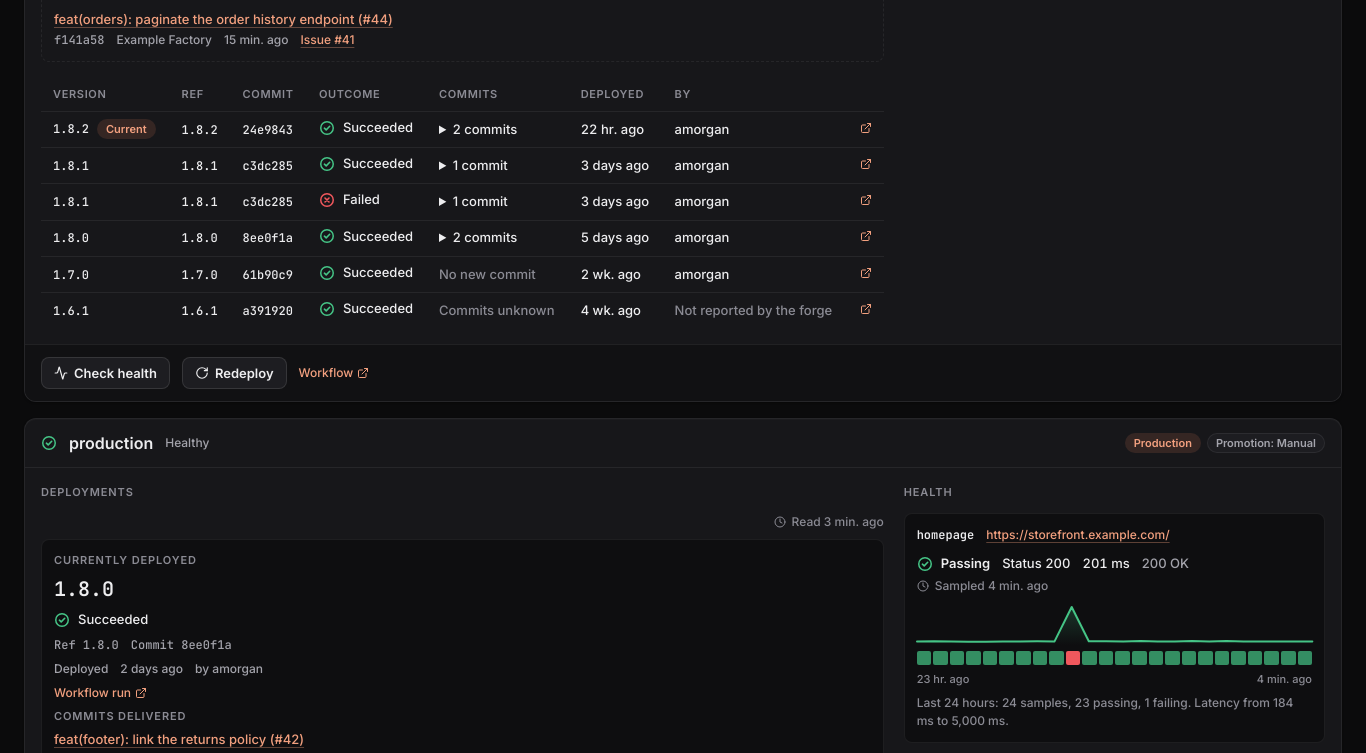
Test: deployment.redeploy: the confirmation › says the version is not the deployed one, and keeps the confirmation disabled, while it differs
The width and height of the screenshot is (1366, 753).
Later steps or results of the test are not shown.
(page scrolled)
Click the button with aria-label "Redeploy staging": (234, 373) [182, 357, 286, 389]
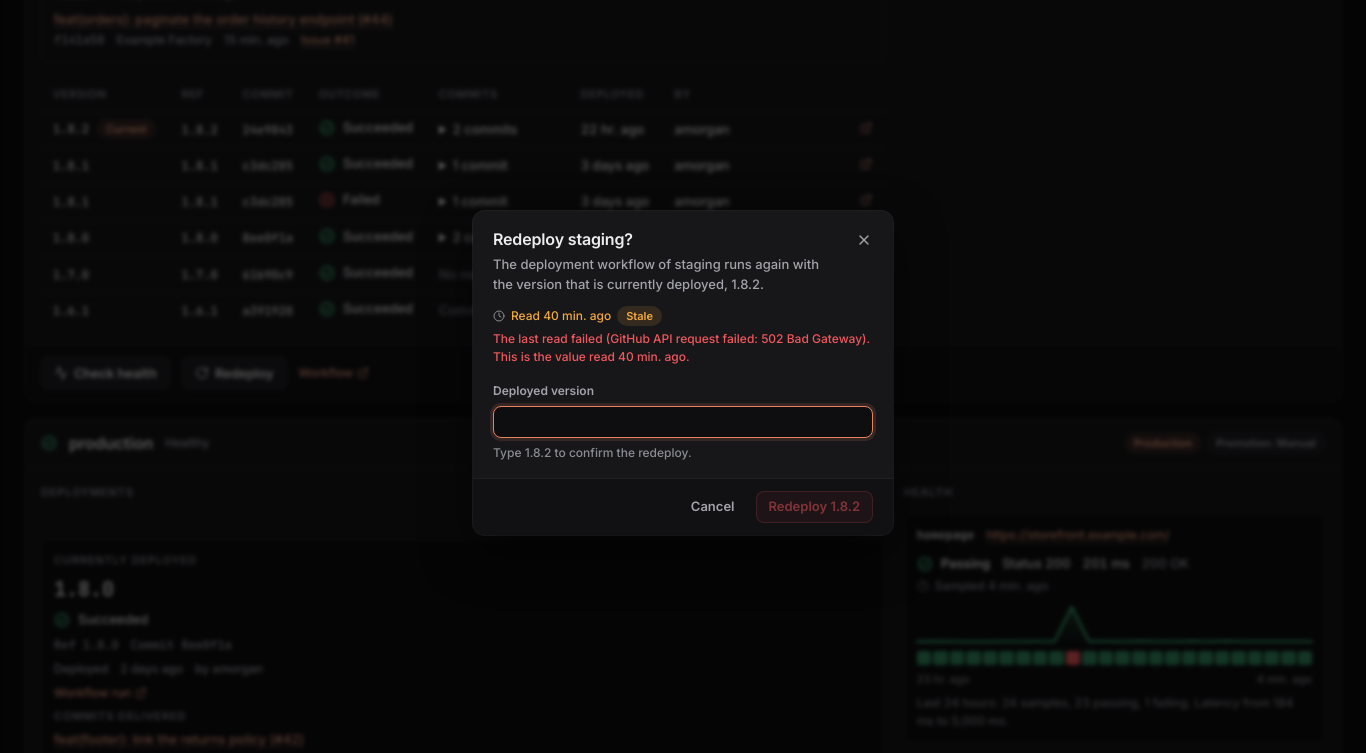
In the field labelled "Deployed version": (683, 422) [493, 406, 873, 438], type "1.8"
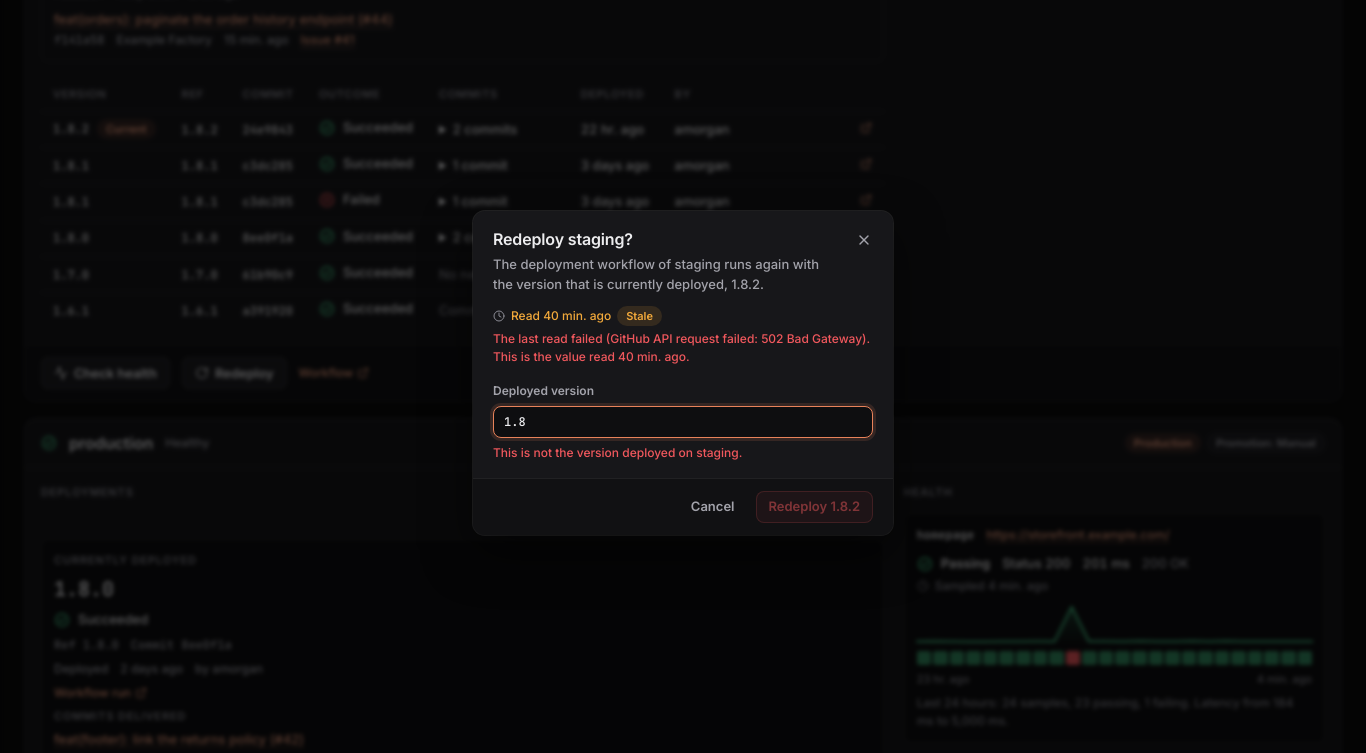
Now the text "This is not the version deployed on staging." is shown, box [493, 445, 742, 460]
